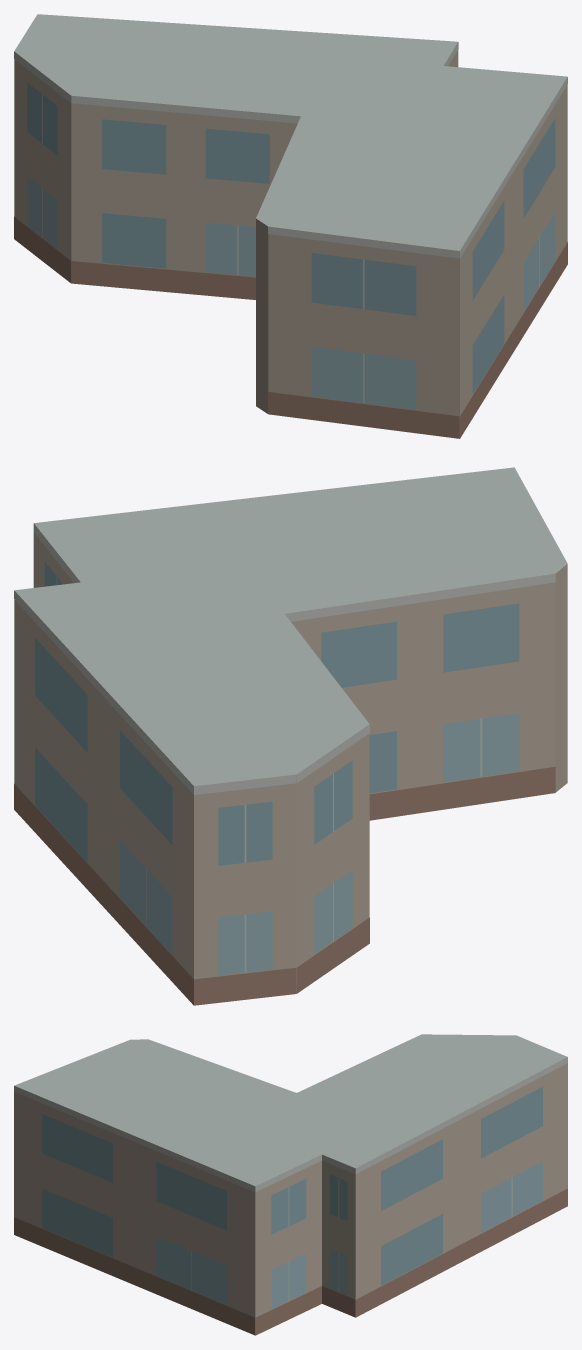
The model's file is survey-upis-32608679.glb.
3 renders of one model, top to bottom at view 1: azimuth 30°, elevation 25°; view 2: azimuth 150°, elevation 25°; view 3: azimuth 270°, elevation 25°, orthographic. The views are drawn at different scales.
Visible parts, largest first — view 1: survey-upis-32608679.tmp; view 2: survey-upis-32608679.tmp; view 3: survey-upis-32608679.tmp.
Part boxes in pixels (x1,y1,x2,y2): survey-upis-32608679.tmp: (14,14,567,438); survey-upis-32608679.tmp: (14,467,567,1005); survey-upis-32608679.tmp: (14,1034,567,1335).
Size of the model in its own units: 13.34 by 6.1 by 20.53.
